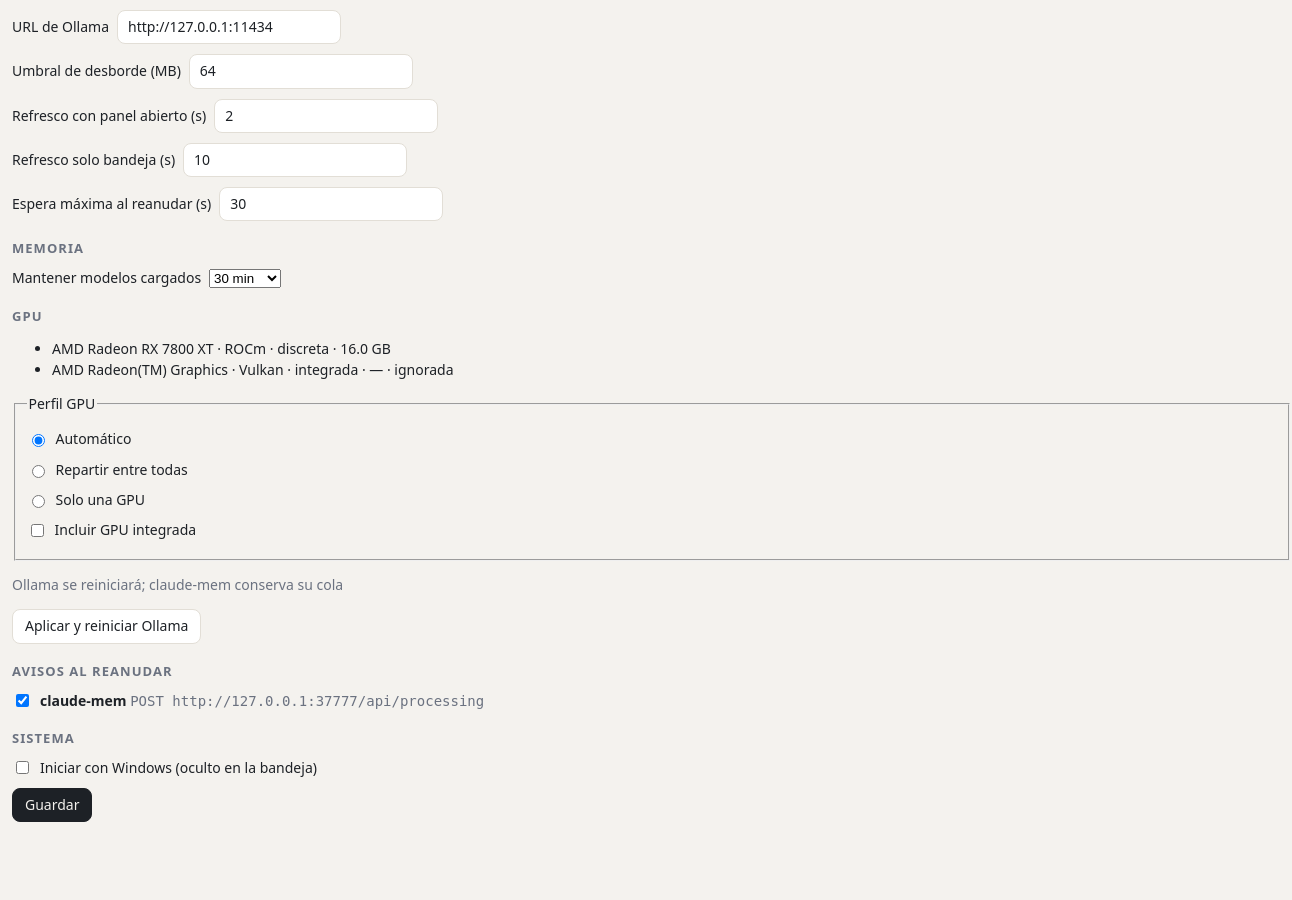
impide aplicar GPU y editar sus controles mientras se guardan ajustes
Click the button "Guardar" at point(52, 805), box left=12, top=788, right=92, bottom=822
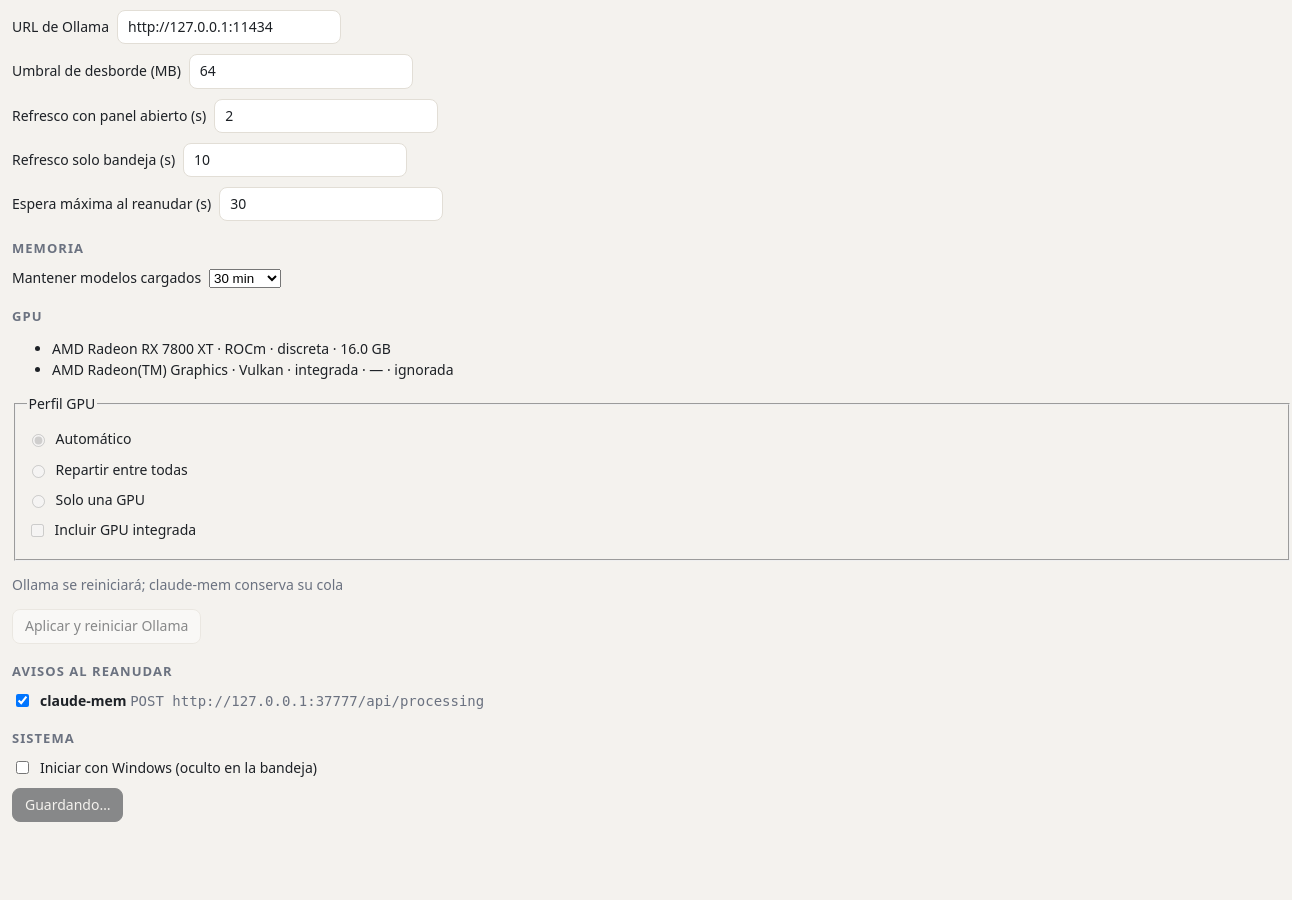
Expected: the radio button labelled "Automático" is disabled, left=32, top=434, right=44, bottom=447
Now the button "Guardando…" is disabled, box left=12, top=788, right=124, bottom=822
Now the button "Aplicar y reiniciar Ollama" is disabled
Click the button "Aplicar y reiniciar Ollama" at point(107, 627), box left=12, top=610, right=201, bottom=644
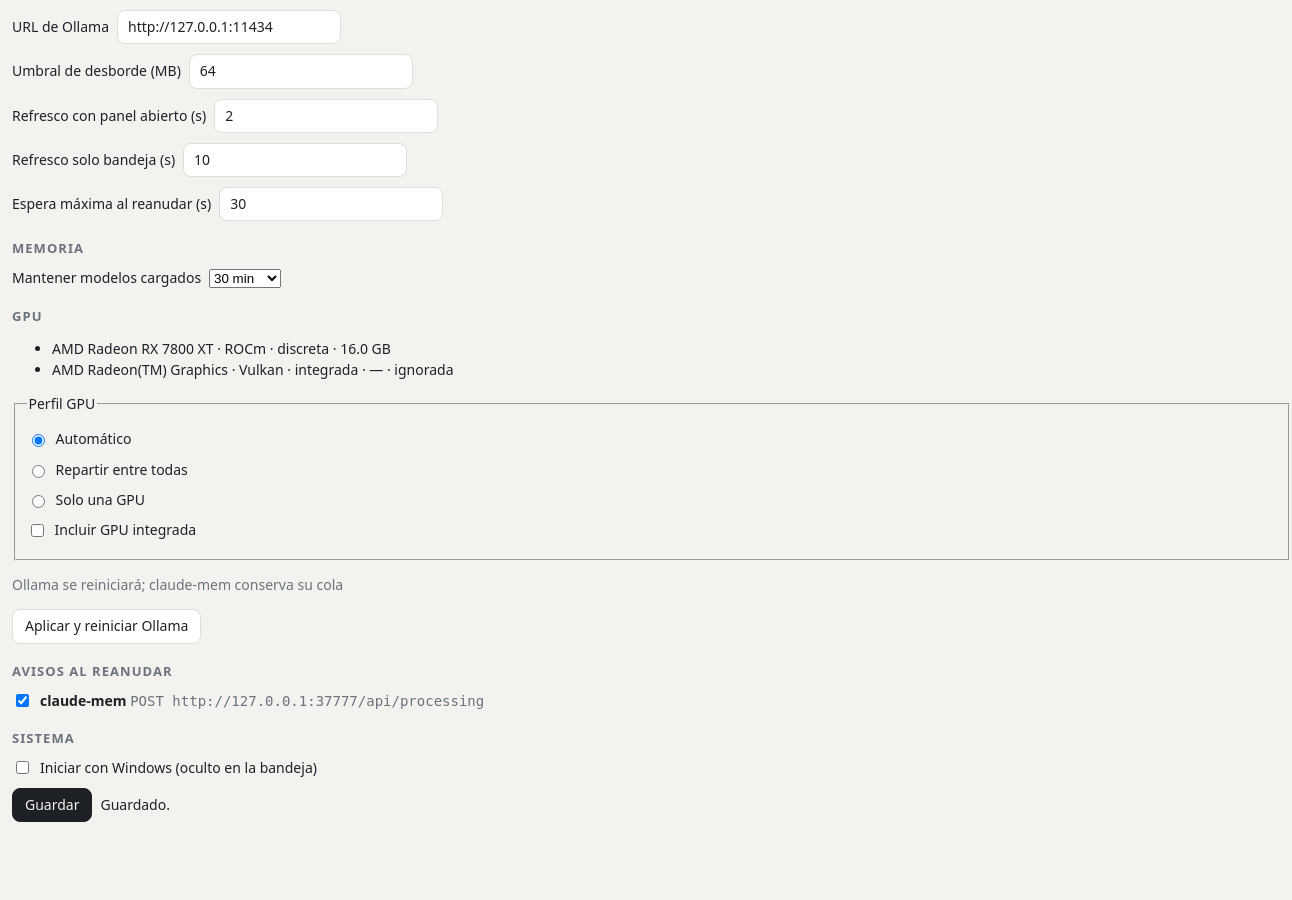
Now the button "Aplicar y reiniciar Ollama" is enabled, box left=12, top=610, right=201, bottom=644
